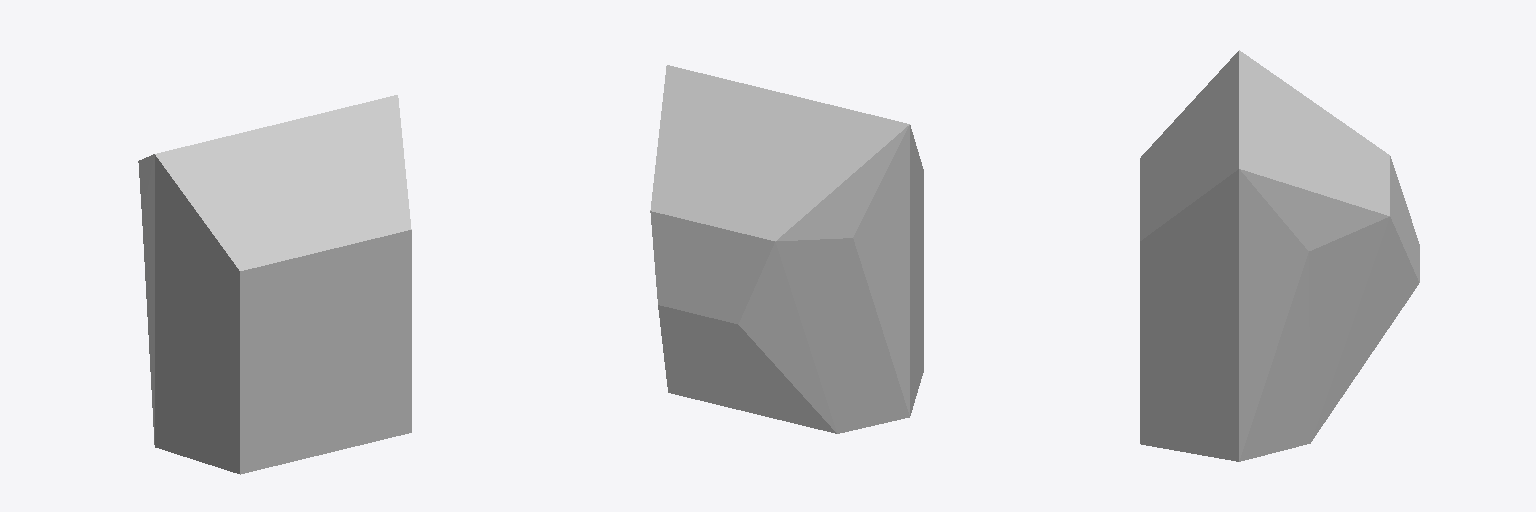
File: Porygon.obj
3 views of the same model, side by side, from view 1: azimuth 30°, elevation 25°; view 2: azimuth 150°, elevation 25°; view 3: azimuth 270°, elevation 25° (orthographic).
Visible parts, largest first — view 1: mat_1, mat_0; view 2: mat_1, mat_0; view 3: mat_1, mat_0.
Part boxes in pixels (bbox=[...]): mat_1: bbox=[142, 155, 411, 474]; mat_0: bbox=[138, 95, 411, 270]; mat_1: bbox=[650, 125, 923, 433]; mat_0: bbox=[650, 65, 909, 241]; mat_1: bbox=[1140, 156, 1419, 461]; mat_0: bbox=[1140, 50, 1389, 250].
Bounding box in the file's own units: 4.7 × 5.4 × 4.66.